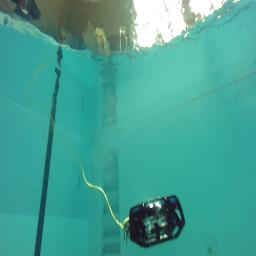Side: (124, 195, 186, 248)
